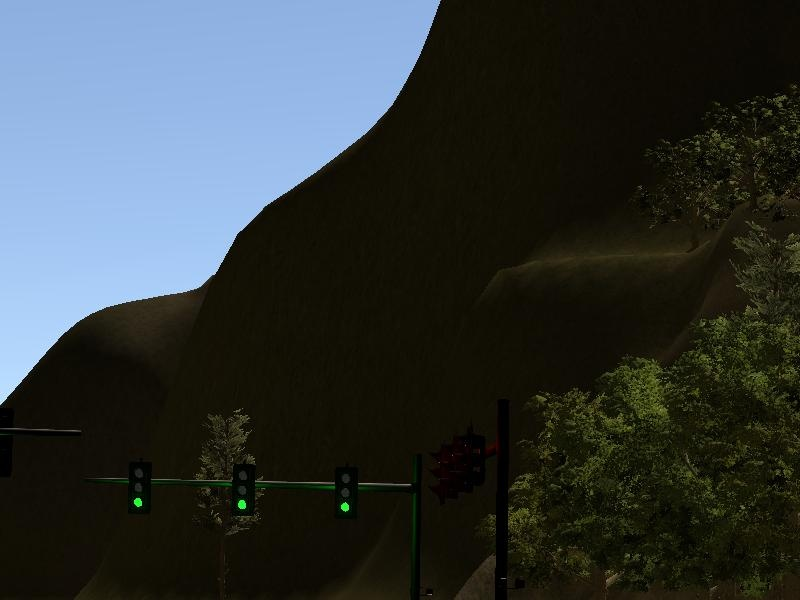Green: (334, 465, 358, 519), (128, 461, 151, 515), (232, 464, 255, 516)
